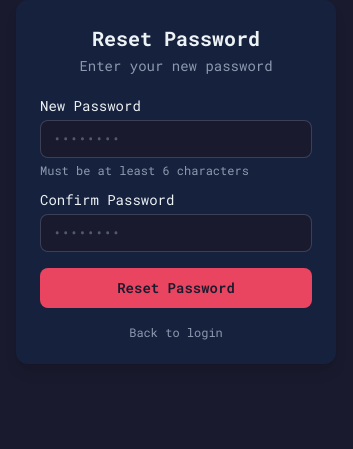
Test case: ResetPassword Page › Submit Flow › shows success message on successful reset
Type "newpassword123" into the password field labelled "New Password" at (176, 139), box [40,120,312,158]
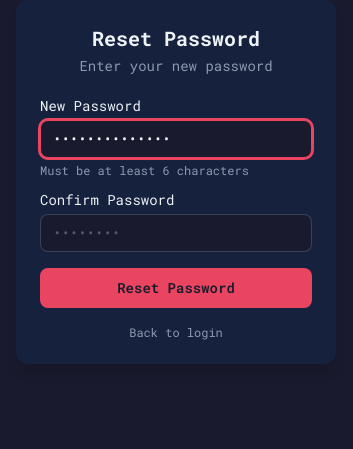
Type "newpassword123" into the password field labelled "Confirm Password" at (176, 233), box [40,214,312,252]
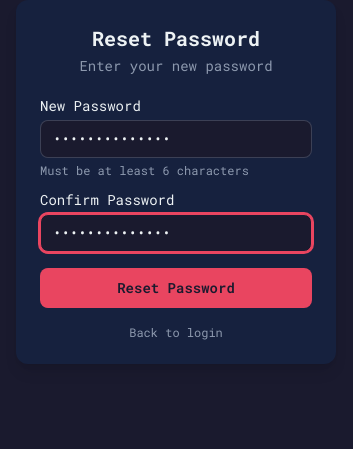
Click the button "Reset Password" at (176, 288), box [40,268,312,308]
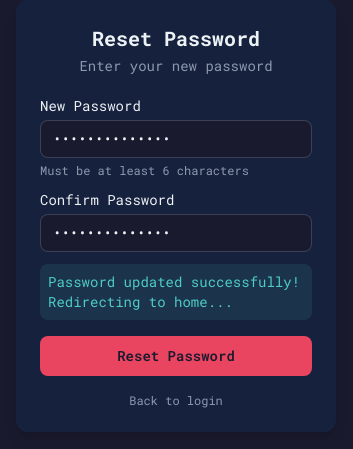
Expected: the text "Password updated successfully! Redirecting to home..." is shown, [40,264,312,320]
